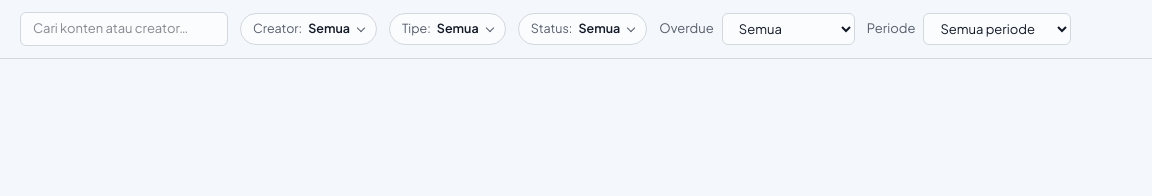
it: ContentPlanFilters › scopes the status choices to the tab it is on
Click the button "Status: Semua" at (582, 29), box [518,13,647,45]
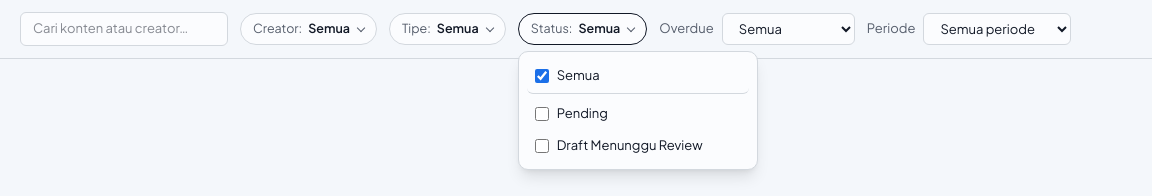
expect the number of checkboxes is 3: met, box [535,68,549,82]; [535,107,549,121]; [535,138,549,152]
expect the checkbox labelled "Semua" is checked: met, box [535,68,549,82]
expect the checkbox labelled "Pending" is shown: met, box [535,107,549,121]
